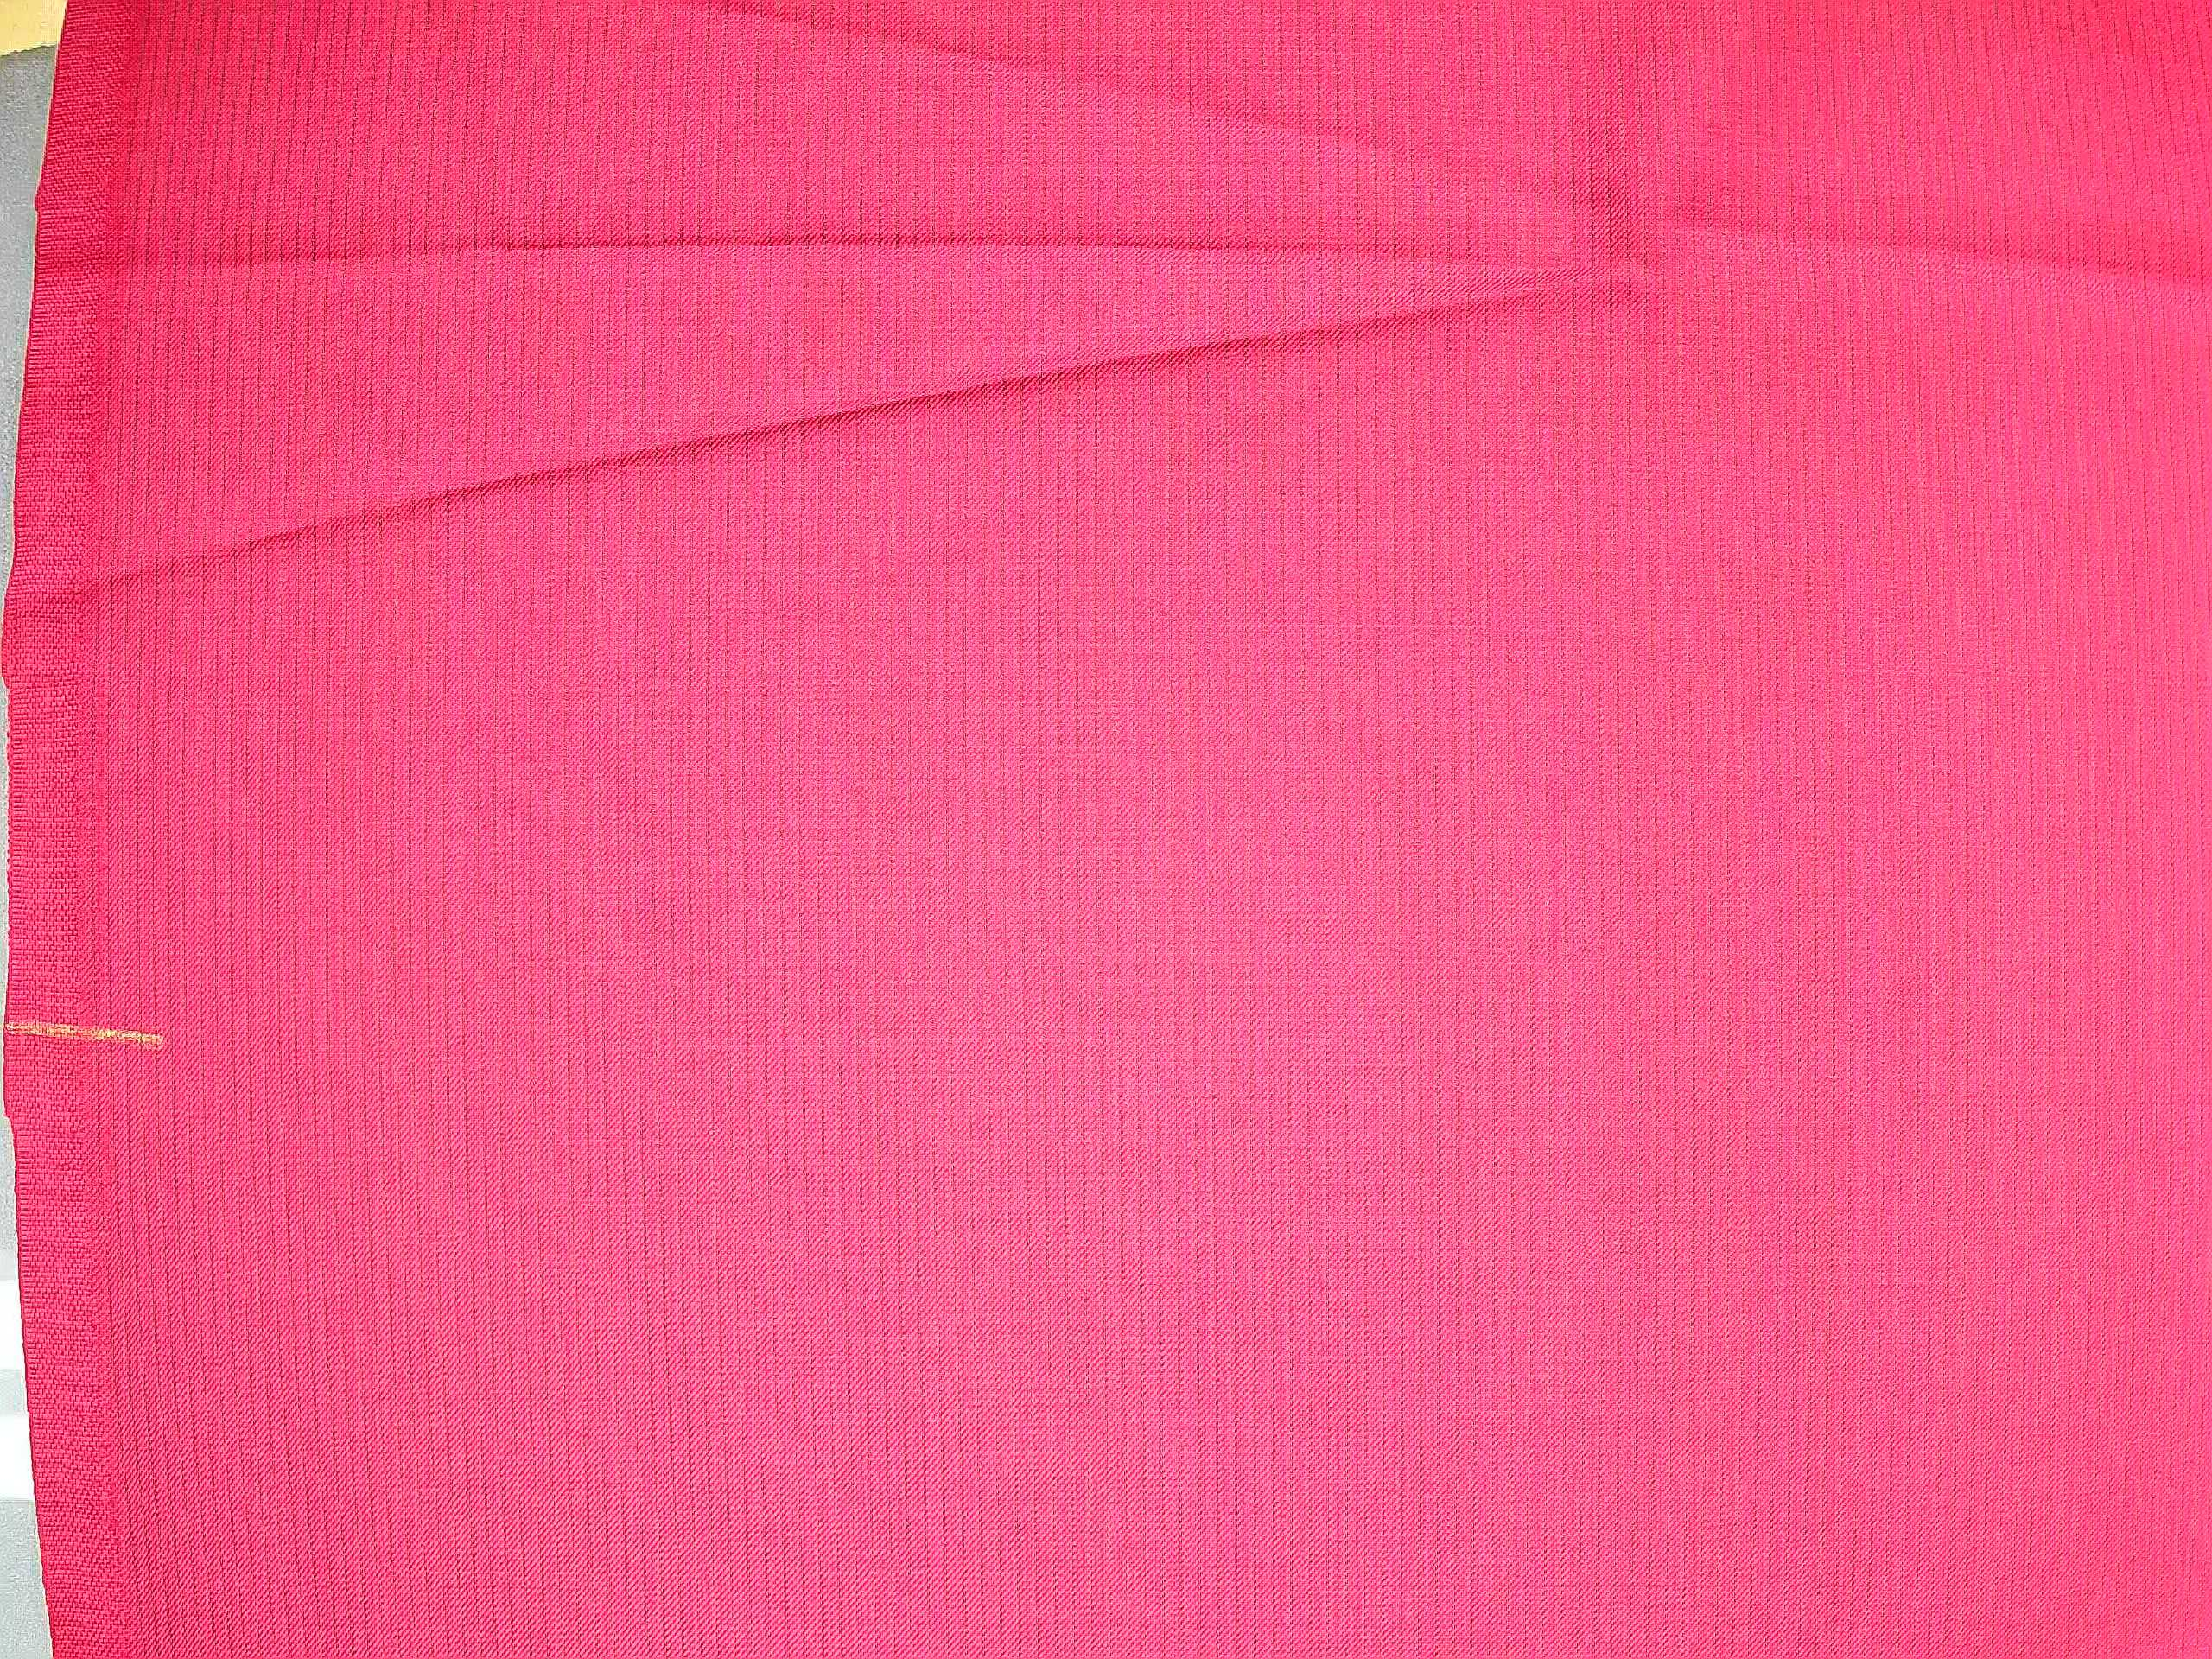stains: (465, 261, 954, 399), (204, 191, 426, 451), (314, 485, 468, 725)
